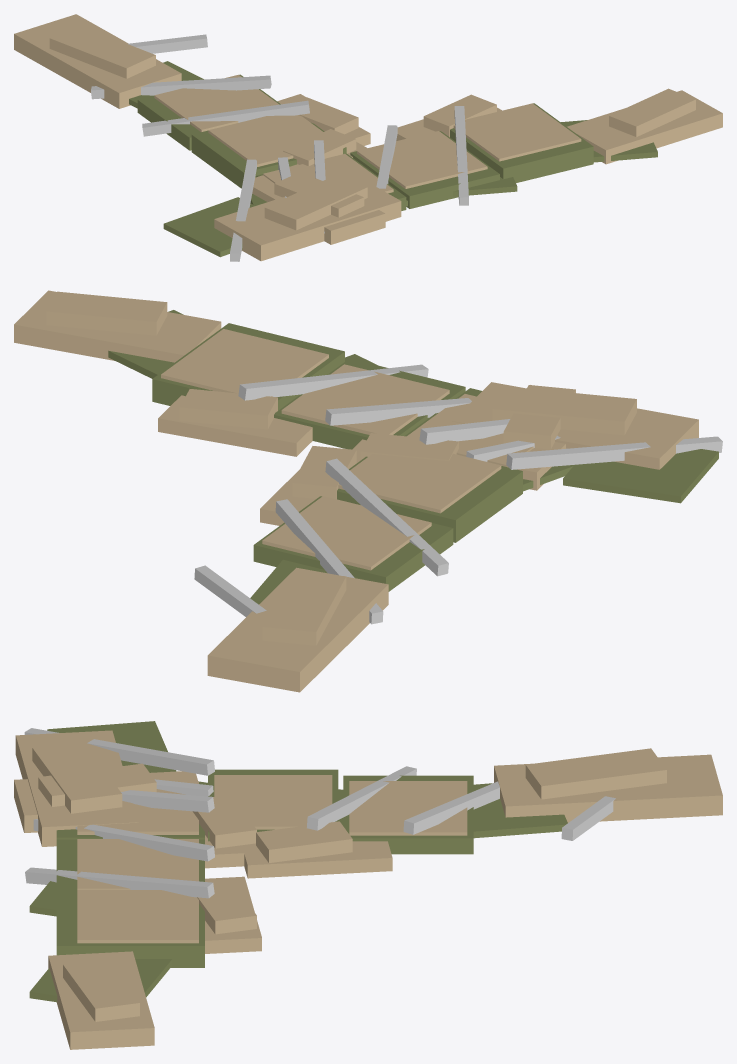
File: SM_HescoEsquina_v2_Escalonado_e3_Brecha_LOD1.fbx
3 renders of one model, top to bottom at view 1: azimuth 30°, elevation 25°; view 2: azimuth 150°, elevation 25°; view 3: azimuth 270°, elevation 25°, orthographic. The views are drawn at different scales.
Visible parts, largest first — view 1: SM_hesco_piezas_v11_LOD1; view 2: SM_hesco_piezas_v11_LOD1; view 3: SM_hesco_piezas_v11_LOD1.
Boxes of the visible parts, bbox=[...] form: SM_hesco_piezas_v11_LOD1: bbox=[14, 14, 722, 261]; SM_hesco_piezas_v11_LOD1: bbox=[14, 290, 722, 692]; SM_hesco_piezas_v11_LOD1: bbox=[14, 721, 722, 1049].
Size of the model in its own units: 6.23 by 0.351 by 5.83.
